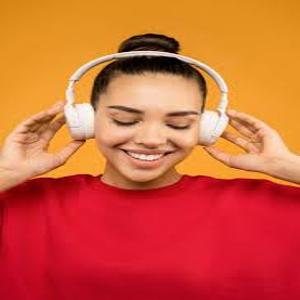Headphones: (64, 50, 229, 144)
